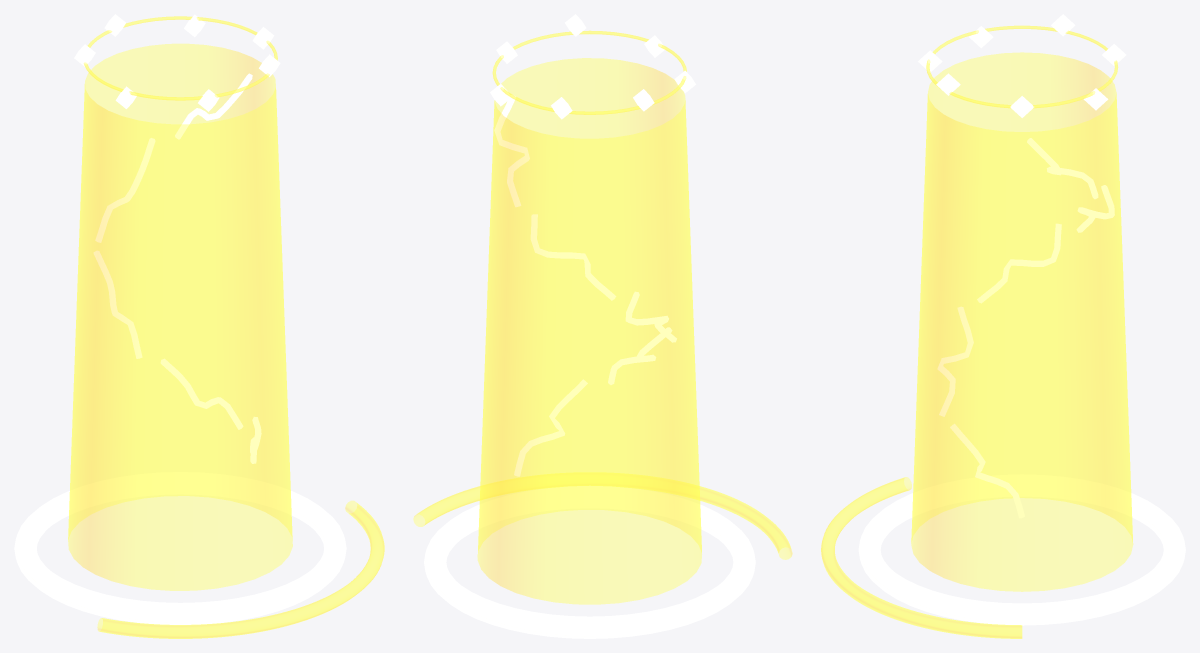
File: vfx_status_stun.glb
3 views of the same model, side by side, from view 1: azimuth 30°, elevation 25°; view 2: azimuth 150°, elevation 25°; view 3: azimuth 270°, elevation 25° (orthographic).
Parts seen in each view (by area): view 1: stun_column, stun_lock, stun_resist, stun_orbit, stun_jitter3, stun_jitter2, stun_jitter1, stun_jitter4; view 2: stun_column, stun_lock, stun_resist, stun_orbit, stun_jitter4, stun_jitter3, stun_jitter0, stun_jitter1, stun_jitter2; view 3: stun_column, stun_lock, stun_resist, stun_orbit, stun_jitter1, stun_jitter2, stun_jitter0, stun_jitter4, stun_jitter3.
Part boxes in pixels (x1,y1,x2,y2): stun_column: (68,44,292,590); stun_lock: (14,472,346,624); stun_resist: (97,501,384,638); stun_orbit: (84,16,277,100); stun_jitter3: (95,138,155,242); stun_jitter2: (93,250,142,358); stun_jitter1: (160,358,243,429); stun_jitter4: (175,73,252,139); stun_column: (477,58,701,604); stun_lock: (424,486,755,638); stun_resist: (413,472,792,559); stun_orbit: (492,30,686,114); stun_jitter4: (494,95,529,206); stun_jitter3: (530,214,615,300); stun_jitter0: (514,379,587,476); stun_jitter1: (608,327,672,384); stun_jitter2: (625,291,676,342); stun_column: (911,52,1133,591); stun_lock: (858,474,1185,625); stun_resist: (821,477,1022,638); stun_orbit: (926,25,1117,108); stun_jitter1: (937,306,973,416); stun_jitter2: (977,223,1061,303); stun_jitter0: (950,424,1024,518); stun_jitter4: (1027,138,1098,198); stun_jitter3: (1076,185,1114,232).
Size of the model in its own units: 1.31 by 2.03 by 1.31.
